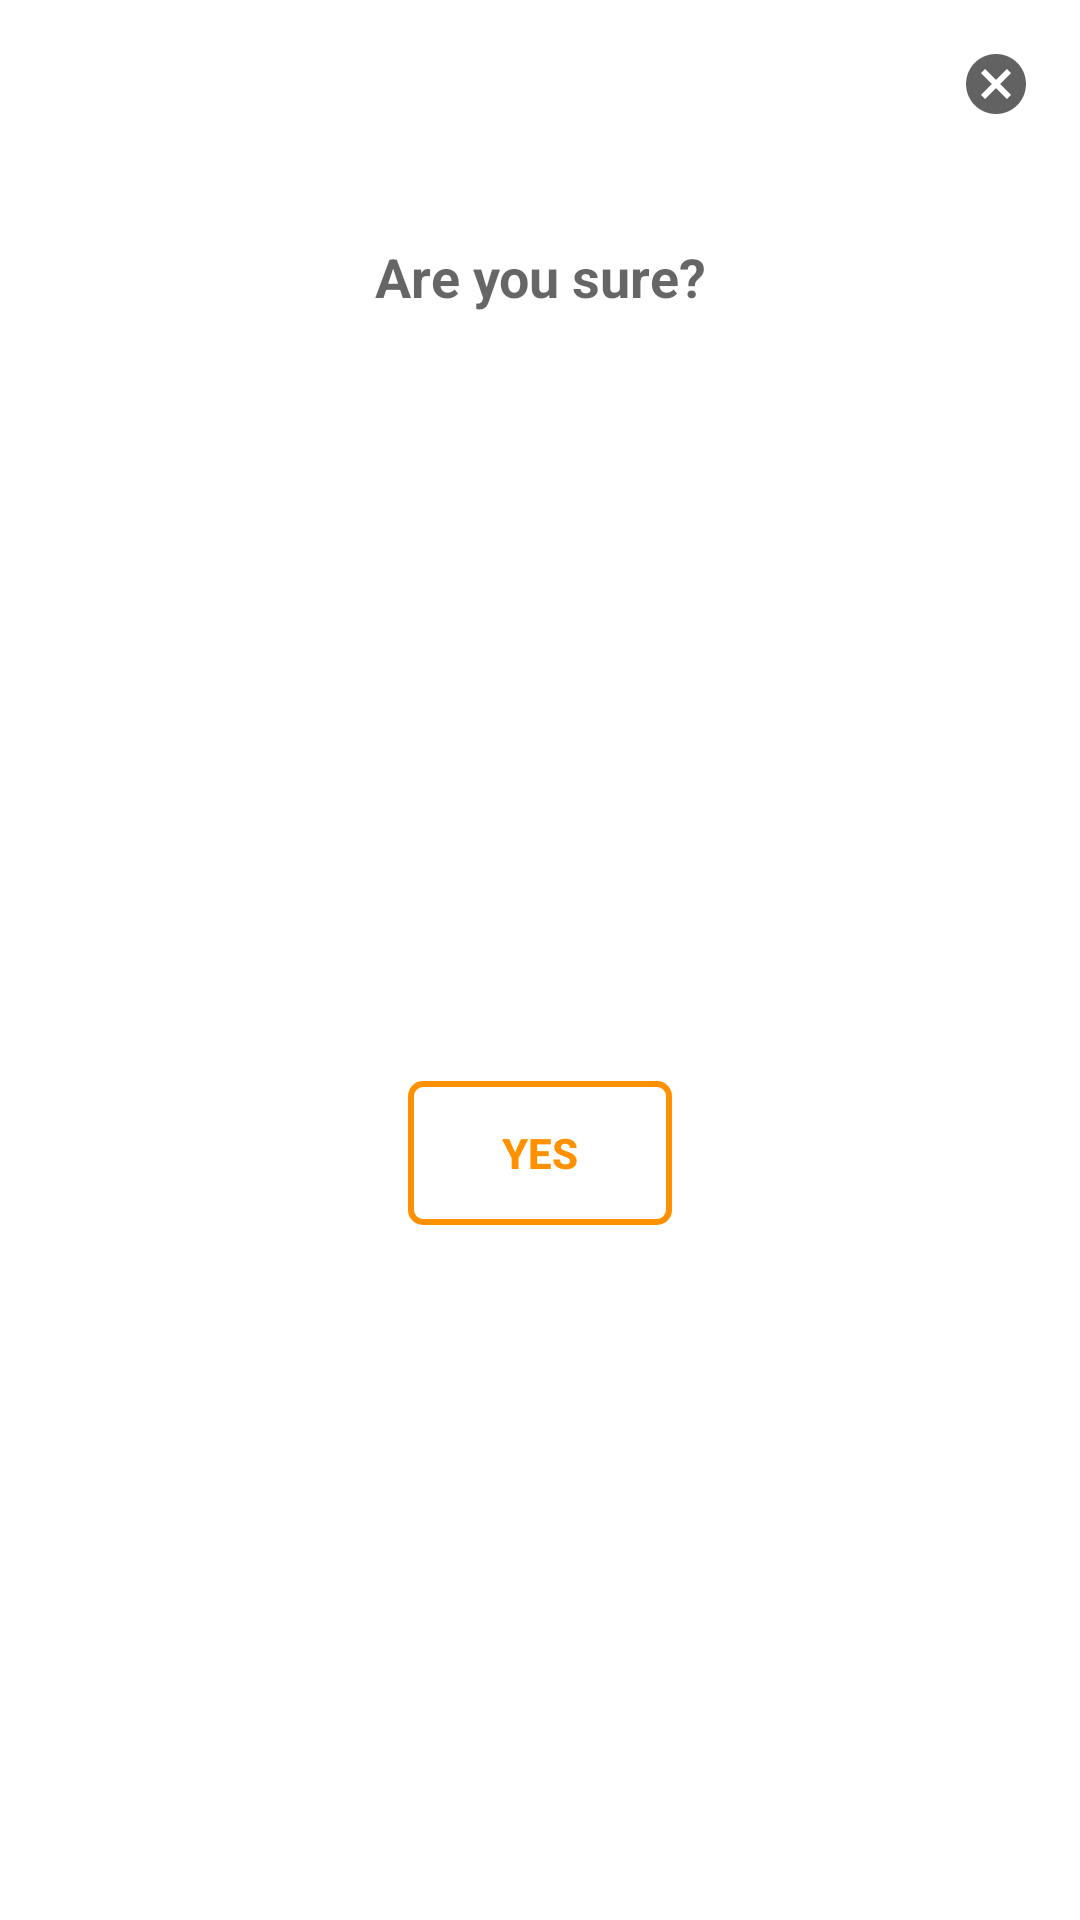

Where icons sit on this 1080×1920 app screen, as bbox=(x1, y1, x2, y2):
cancel: bbox=(966, 54, 1026, 114)
